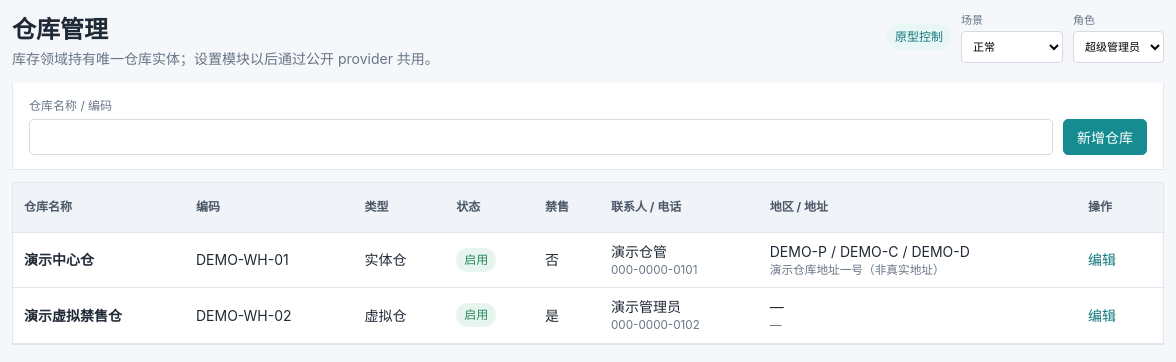
Test: inventory views › masks warehouse phone for supervisor
The width and height of the screenshot is (1176, 362).
Select "销售主管" in the dropdown labelled "角色" at [1118, 46], box [1073,30,1164,62]
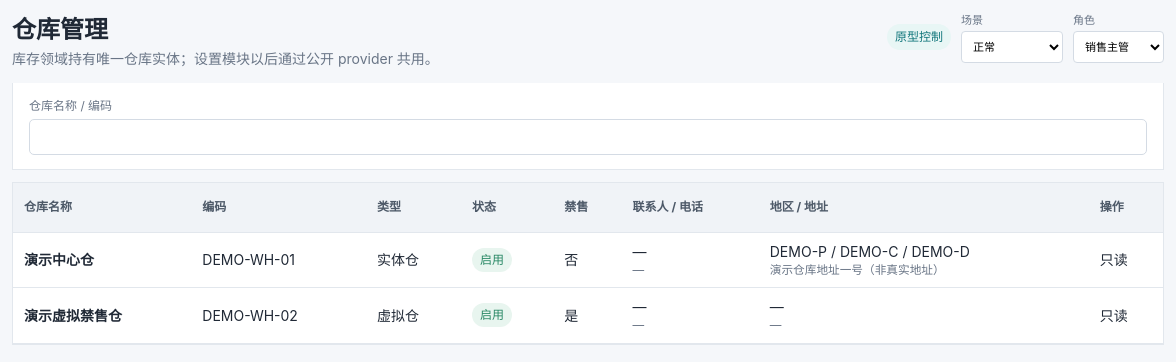
Expected: the text "000-0000-0101" is gone
